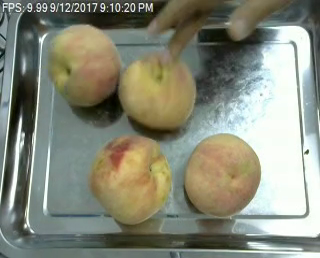Peach: (87, 133, 171, 223), (185, 132, 262, 217), (49, 24, 122, 107), (118, 52, 196, 129)
